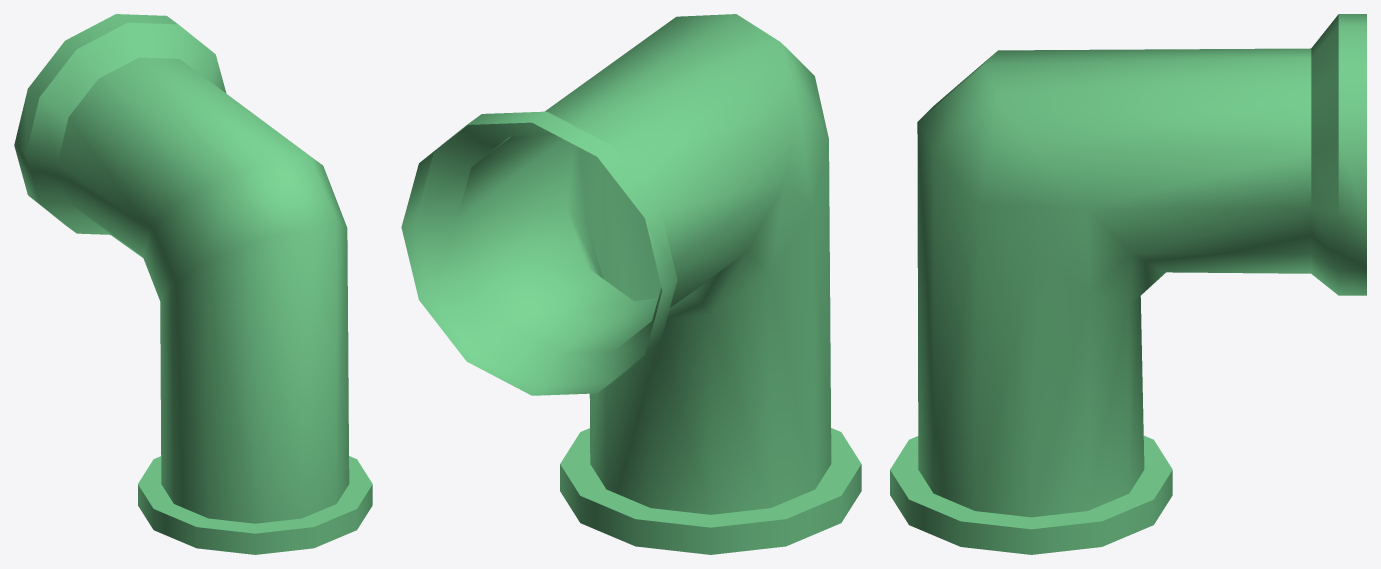
Rendered from Pipe_Basic_WallEnd.fbx.
3 views of the same model, side by side, from view 1: azimuth 30°, elevation 25°; view 2: azimuth 150°, elevation 25°; view 3: azimuth 270°, elevation 25° (orthographic). The views are drawn at different scales.
Visible parts, largest first — view 1: Pipe_Basic_WallEnd; view 2: Pipe_Basic_WallEnd; view 3: Pipe_Basic_WallEnd.
Boxes of the visible parts, x1,y1,x2,y2 form: Pipe_Basic_WallEnd: (14,14,372,554); Pipe_Basic_WallEnd: (401,14,861,554); Pipe_Basic_WallEnd: (890,14,1366,554).
Bounding box in the file's own units: 75 × 137 × 126.
